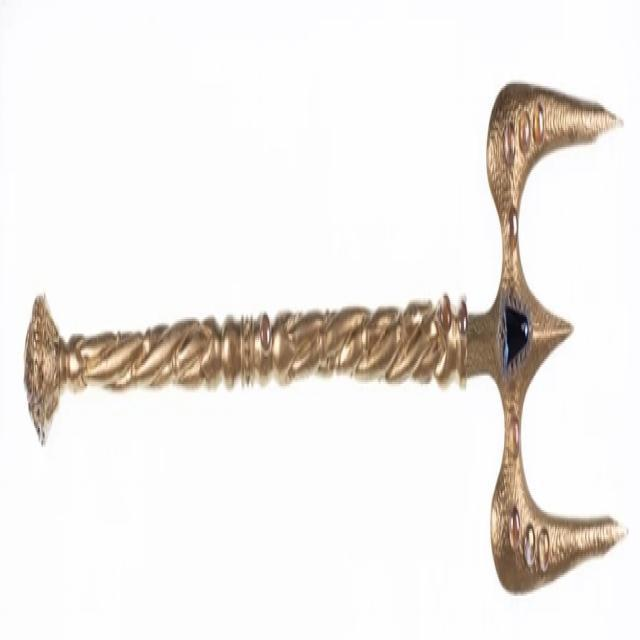spear: (10, 57, 630, 625)
